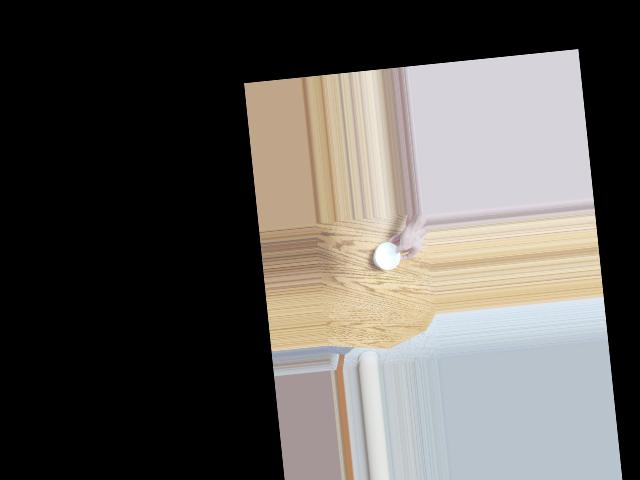cotage: (371, 238, 407, 277)
